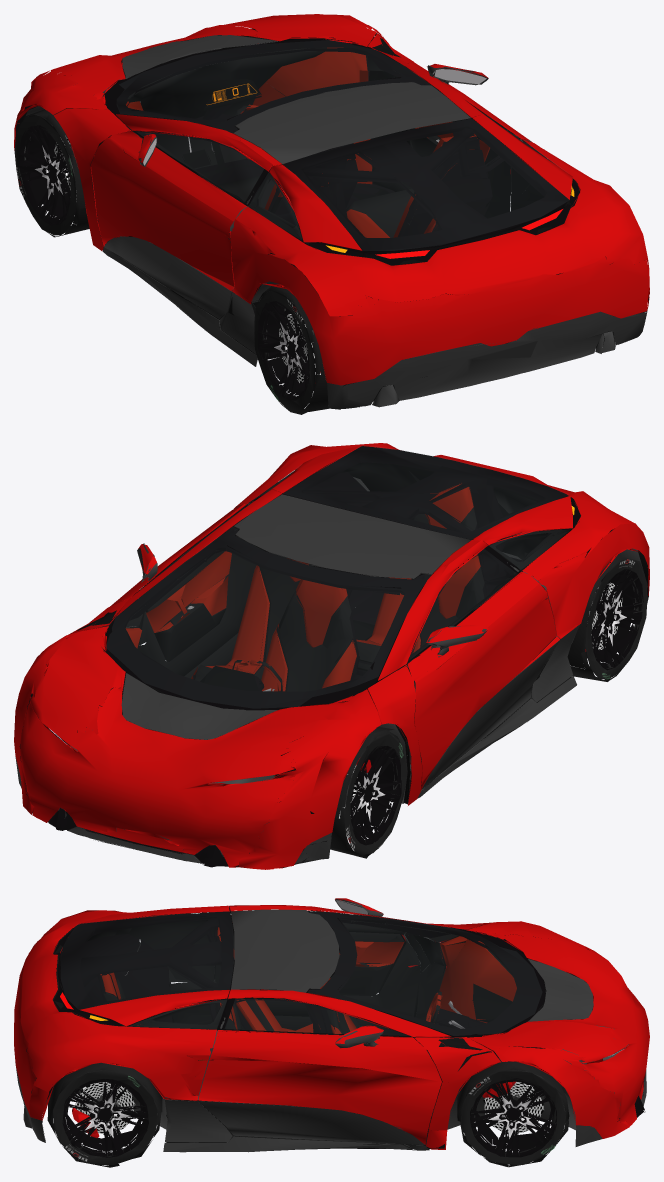
Rendered from touring-gt.low.glb.
The picture shows the model from 3 angles, top to bottom: view 1: azimuth 30°, elevation 25°; view 2: azimuth 150°, elevation 25°; view 3: azimuth 270°, elevation 25°; orthographic projection. The views are drawn at different scales.
Visible parts, largest first — view 1: geometry:body, geometry:wheel-rl, geometry:wheel-fl; view 2: geometry:body, geometry:wheel-rl, geometry:wheel-fl; view 3: geometry:body, geometry:wheel-rr, geometry:wheel-fr.
Boxes of the visible parts, <box> form: geometry:body: <box>14,14,649,409</box>; geometry:wheel-rl: <box>254,284,328,414</box>; geometry:wheel-fl: <box>14,109,89,237</box>; geometry:body: <box>14,443,649,869</box>; geometry:wheel-rl: <box>567,555,647,681</box>; geometry:wheel-fl: <box>330,727,406,858</box>; geometry:body: <box>14,898,649,1152</box>; geometry:wheel-rr: <box>47,1062,162,1167</box>; geometry:wheel-fr: <box>457,1058,569,1167</box>.
Bounding box in the file's own units: 2.1 × 1.05 × 3.92.
Materials: 22 (5 with a texture image).
